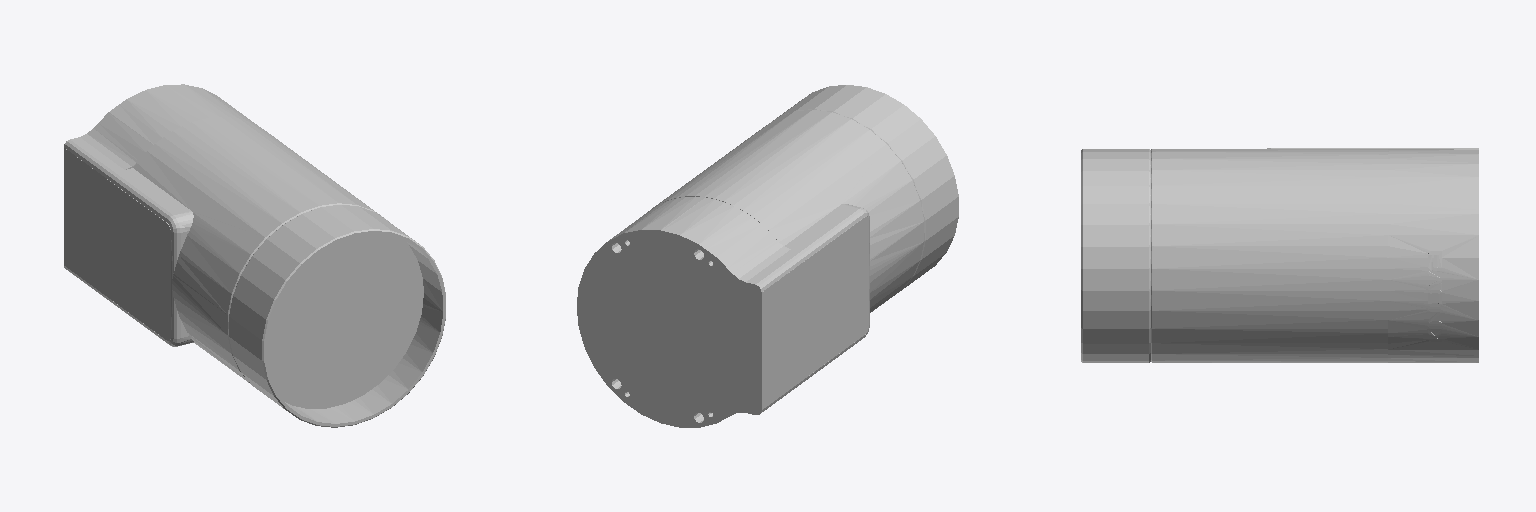
File: base_link_collisions_mesh_0.obj
3 views of the same model, side by side, from view 1: azimuth 30°, elevation 25°; view 2: azimuth 150°, elevation 25°; view 3: azimuth 270°, elevation 25° (orthographic).
Bounding box in the file's own units: 0.0925 × 0.0922 × 0.1708.